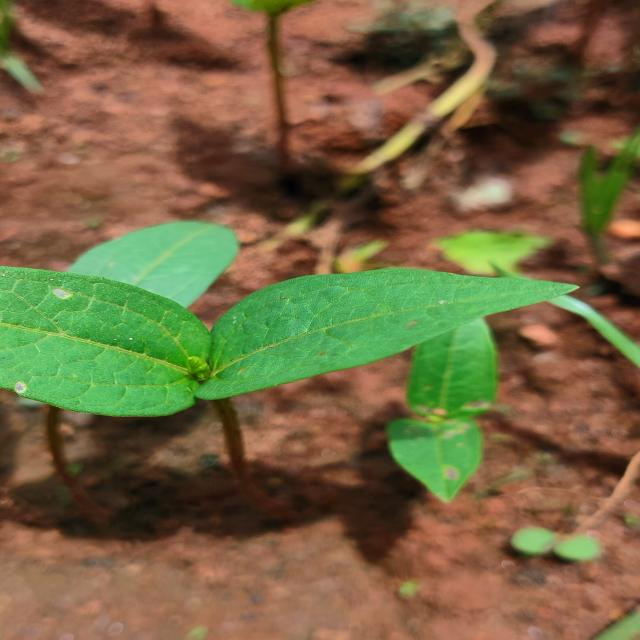Black gram_healthy: (210, 267, 581, 395), (6, 264, 216, 418)
